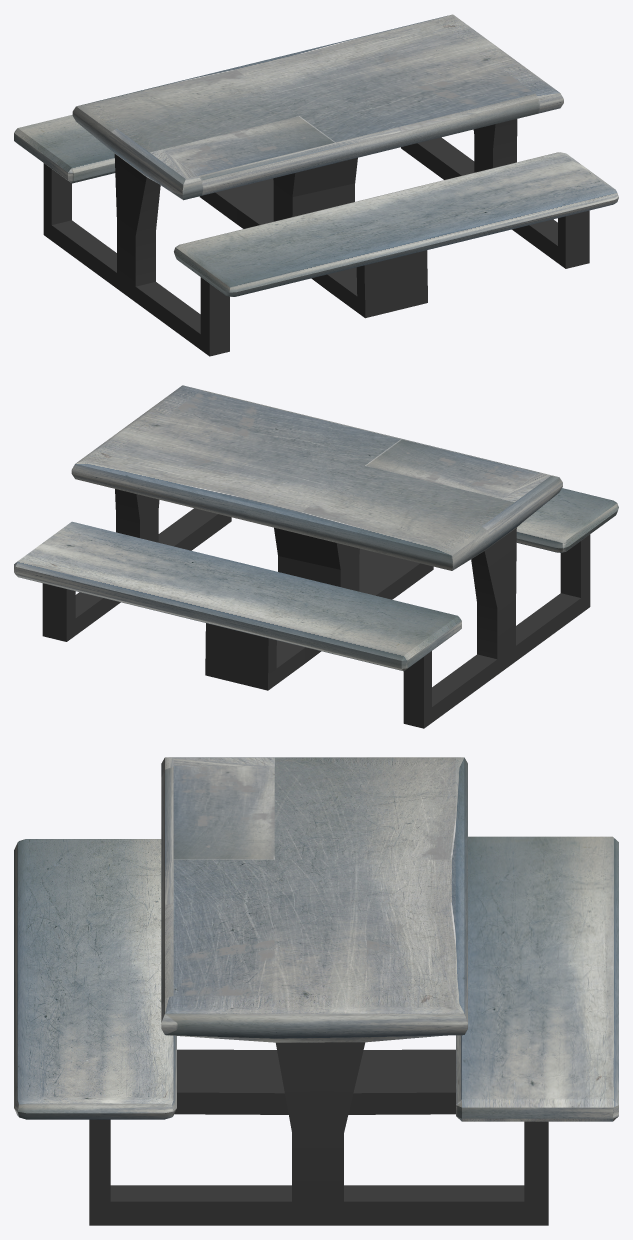
File: CafeteriaTischbank.fbx
3 renders of one model, top to bottom at view 1: azimuth 30°, elevation 25°; view 2: azimuth 150°, elevation 25°; view 3: azimuth 270°, elevation 25°, orthographic. The views are drawn at different scales.
Visible parts, largest first — view 1: pCube2, pCube3, pasted__pCube3; view 2: pCube2, pasted__pCube3, pCube3; view 3: pCube2, pasted__pCube3, pCube3.
Part boxes in pixels (<box>): pCube2: <box>43,14,589,356</box>; pCube3: <box>174,152,618,296</box>; pasted__pCube3: <box>14,114,115,183</box>; pCube2: <box>42,385,590,728</box>; pasted__pCube3: <box>14,521,461,671</box>; pCube3: <box>516,488,618,552</box>; pCube2: <box>89,757,548,1225</box>; pasted__pCube3: <box>456,836,618,1121</box>; pCube3: <box>14,839,176,1119</box>.
Size of the model in its own units: 25.81 by 9.59 by 24.63.
4 materials, 3 textured.
